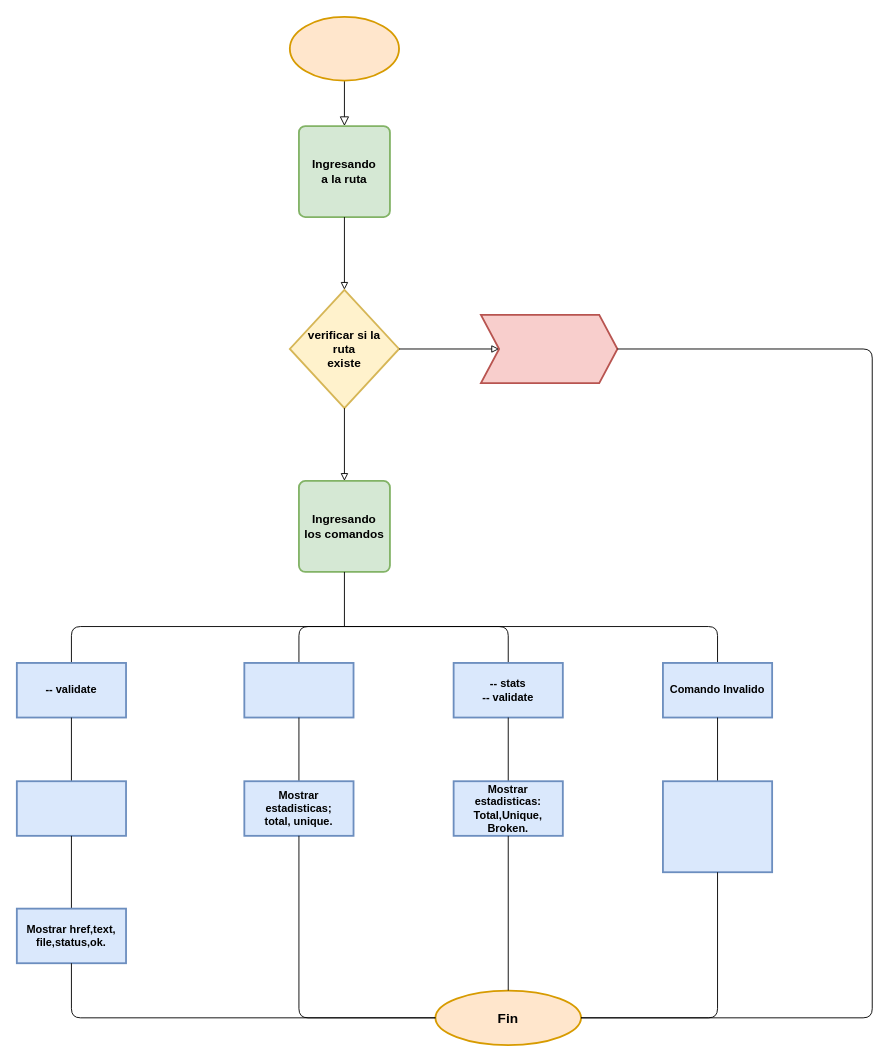
Some shapes in this 889 by 1061 pixel diagram are drawn without their labels. Each missing label, with the box of its shape:
-- stats: (243, 662, 354, 718)
Hacer una peticion HTTP: (15, 780, 126, 836)
Inicio CLI: (288, 15, 399, 81)
Mostrar en consola "comando invalido, intente usar --stats o -- validate": (662, 780, 773, 873)
Mostrar en consola "La ruta no existe": (480, 313, 618, 384)
